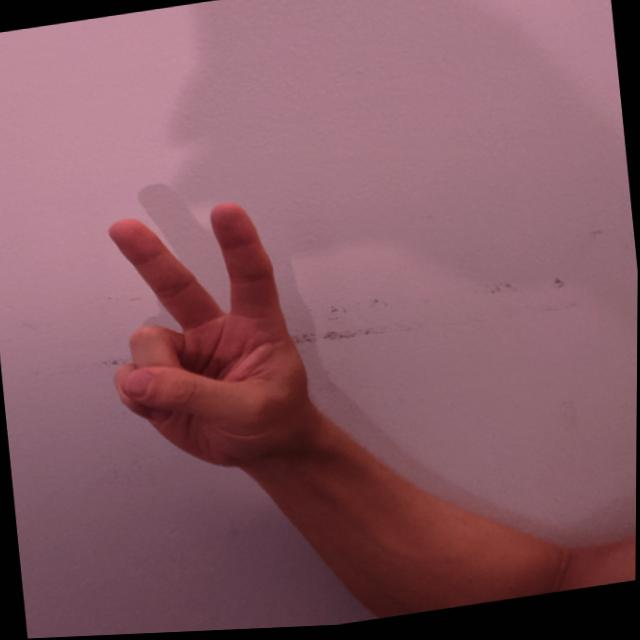V: (86, 189, 326, 495)
